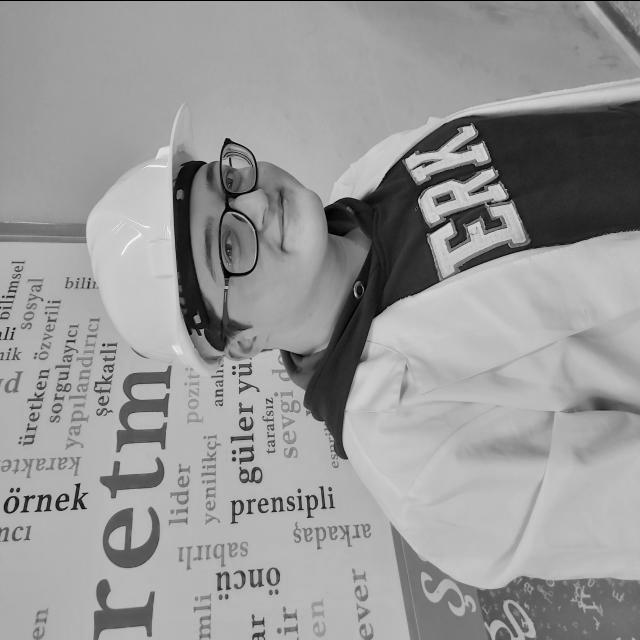construction helmet: (86, 102, 229, 374)
